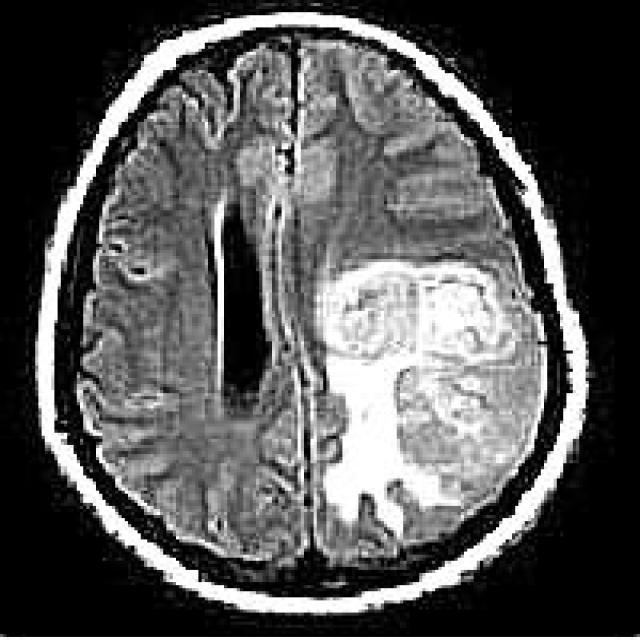Tumor-Cell: (326, 258, 488, 506)
